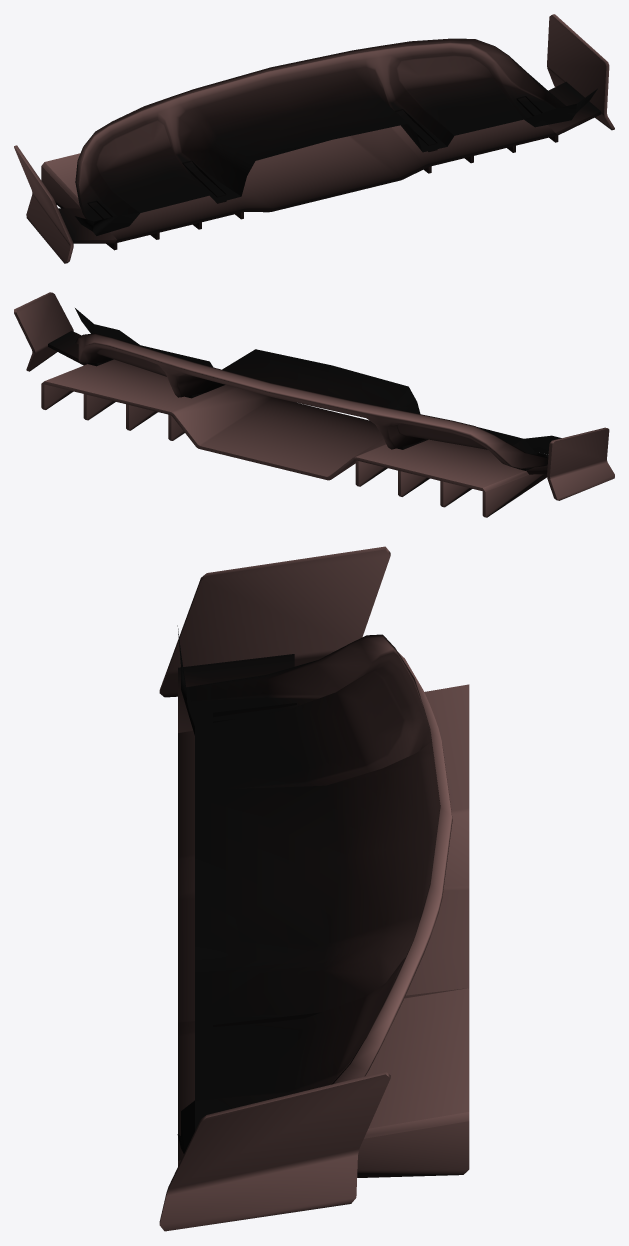
File: Zr1_RB_02_Trim.fbx
3 renders of one model, top to bottom at view 1: azimuth 30°, elevation 25°; view 2: azimuth 150°, elevation 25°; view 3: azimuth 270°, elevation 25°, orthographic. The views are drawn at different scales.
Visible parts, largest first — view 1: Zr1_RB_02_Trim; view 2: Zr1_RB_02_Trim; view 3: Zr1_RB_02_Trim.
Boxes of the visible parts, x1=… form: Zr1_RB_02_Trim: x1=14, y1=14, x2=614, y2=263; Zr1_RB_02_Trim: x1=14, y1=292, x2=614, y2=517; Zr1_RB_02_Trim: x1=159, y1=546, x2=469, y2=1231.
Bounding box in the file's own units: 185 × 25.56 × 44.44.
